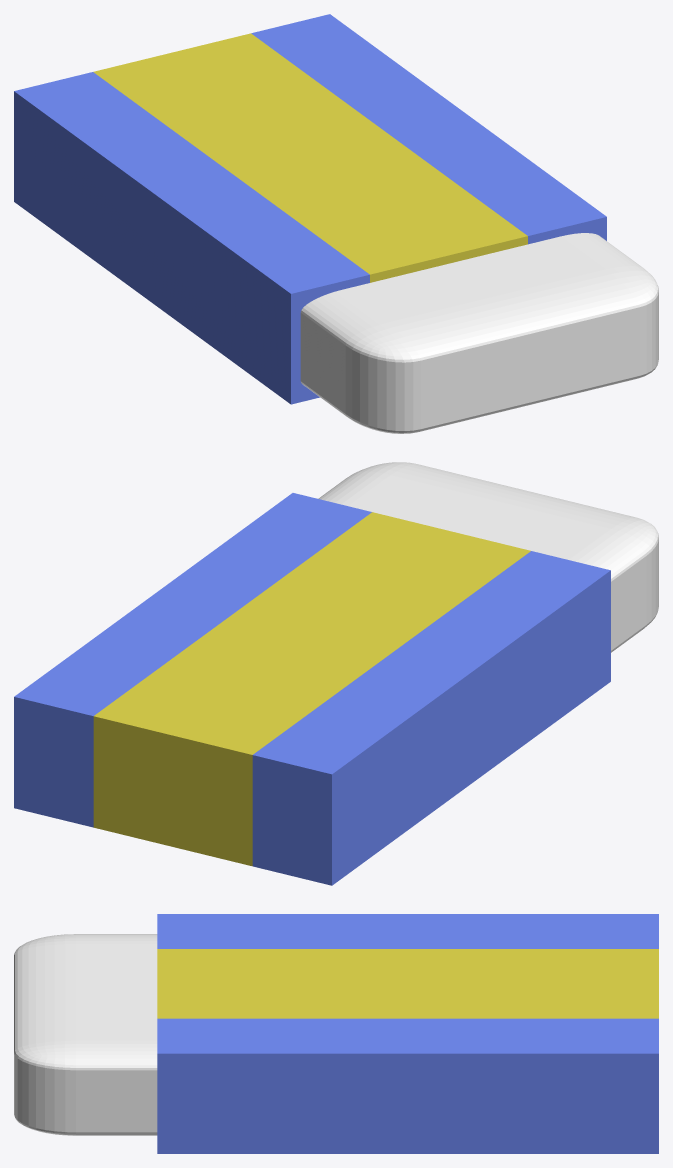
File: eraser.fbx
3 views of the same model, one above another, from view 1: azimuth 30°, elevation 25°; view 2: azimuth 150°, elevation 25°; view 3: azimuth 270°, elevation 25° (orthographic). The views are drawn at different scales.
Parts seen in each view (by area): view 1: Cube, Cube.016; view 2: Cube, Cube.016; view 3: Cube, Cube.016.
Part boxes in pixels (x1,y1,x2,y2): Cube: [14, 14, 606, 404]; Cube.016: [300, 233, 658, 433]; Cube: [14, 493, 610, 885]; Cube.016: [318, 462, 658, 652]; Cube: [157, 914, 658, 1153]; Cube.016: [14, 934, 157, 1135].
Bounding box in the file's own units: 90.86 × 30.41 × 177.
